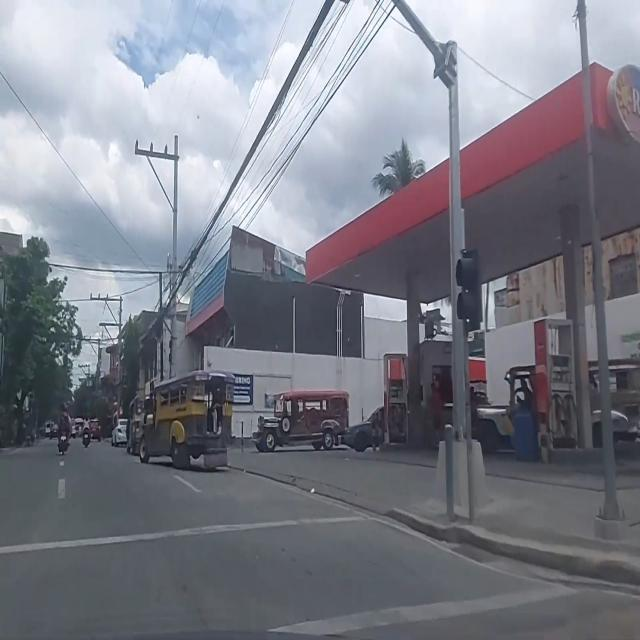car: (350, 405, 384, 453), (111, 419, 128, 447)
jeepney: (472, 358, 640, 458), (138, 369, 238, 469), (254, 389, 348, 453)
motorcycle: (57, 403, 69, 455), (82, 415, 90, 448)
